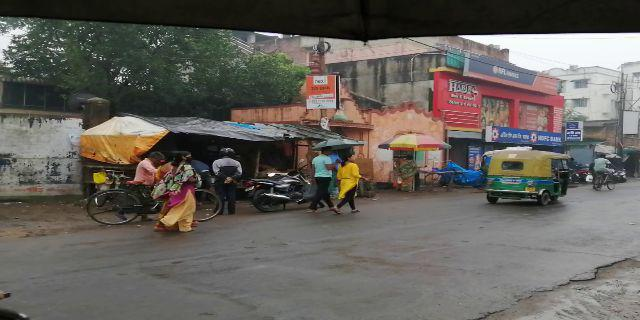Autorickshaw: (489, 150, 579, 207)
